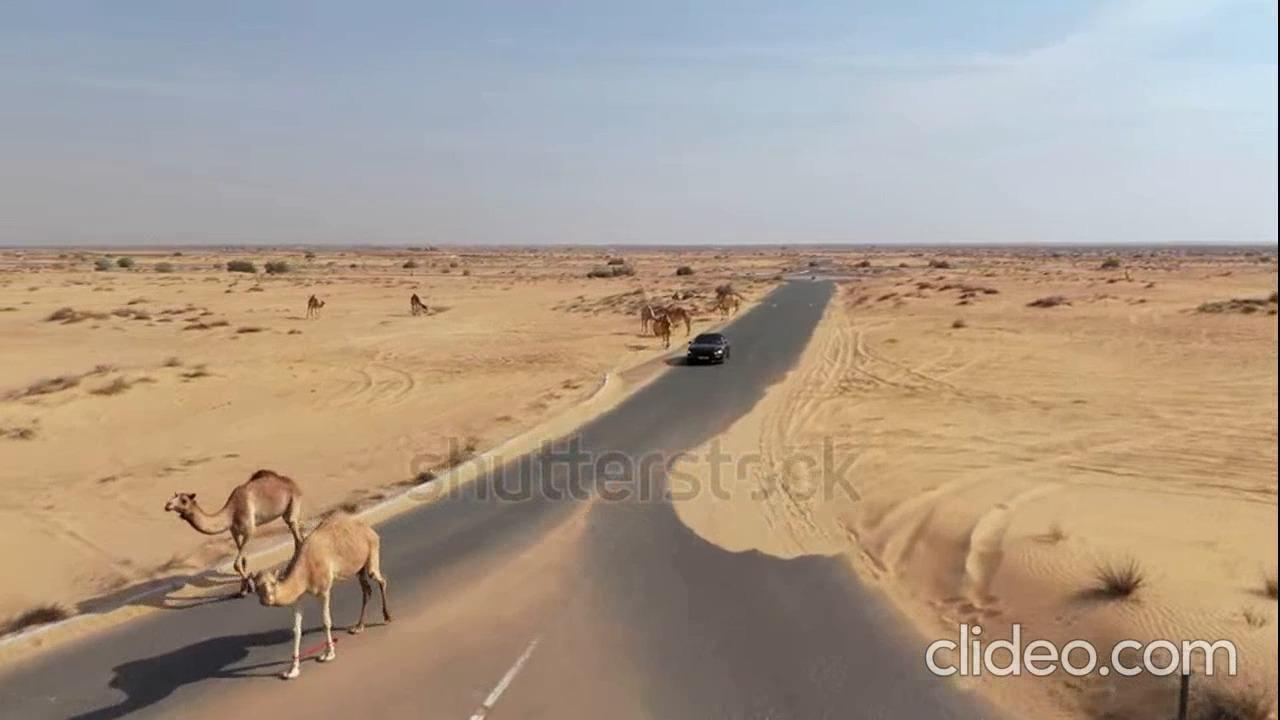camel: (236, 497, 396, 676), (157, 460, 319, 592)
